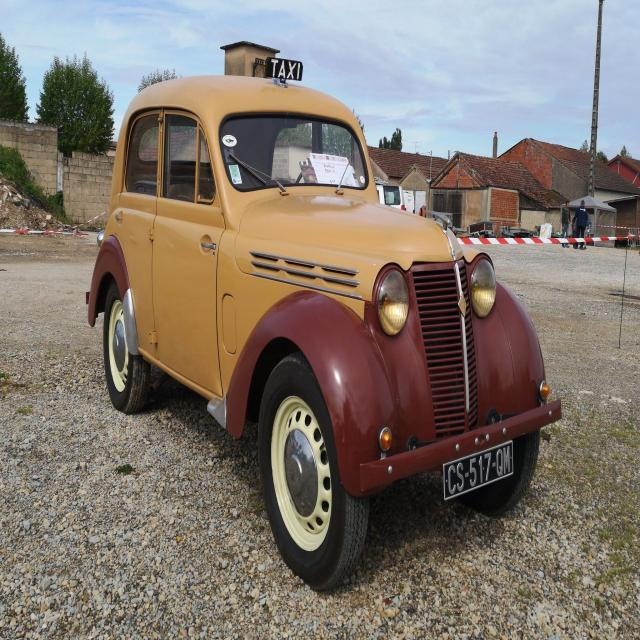plate: (442, 439, 515, 501)
